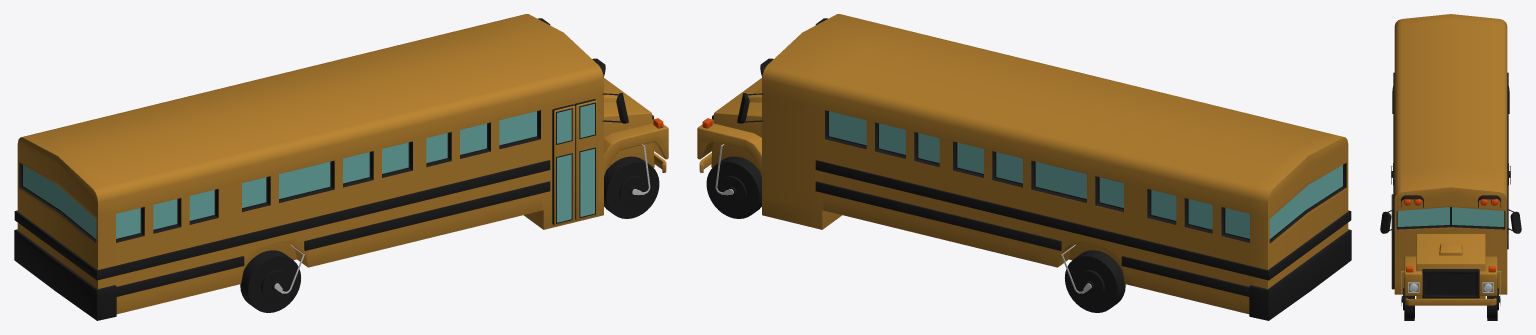
The model's file is Onibus_Escolar.fbx.
3 renders of one model, left to right at view 1: azimuth 30°, elevation 25°; view 2: azimuth 150°, elevation 25°; view 3: azimuth 270°, elevation 25°, orthographic. The views are drawn at different scales.
Parts seen in each view (by area): view 1: Onibus_Corpo, Onibus_Roda, Onibus_Porta, Onibus_Motor; view 2: Onibus_Corpo, Onibus_Roda, Onibus_Motor; view 3: Onibus_Corpo, Onibus_Motor, Onibus_Grade_frente, Onibus_Roda, Onibus_Porta, Onibus_Farol.
Boxes of the visible parts, x1=… form: Onibus_Corpo: x1=14, y1=14, x2=666, y2=320; Onibus_Roda: x1=240, y1=144, x2=659, y2=312; Onibus_Porta: x1=552, y1=99, x2=597, y2=225; Onibus_Motor: x1=604, y1=78, x2=668, y2=176; Onibus_Corpo: x1=699, y1=14, x2=1351, y2=320; Onibus_Roda: x1=706, y1=144, x2=1125, y2=312; Onibus_Motor: x1=697, y1=78, x2=761, y2=176; Onibus_Corpo: x1=1380, y1=14, x2=1521, y2=305; Onibus_Motor: x1=1404, y1=234, x2=1497, y2=298; Onibus_Grade_frente: x1=1422, y1=269, x2=1479, y2=298; Onibus_Roda: x1=1391, y1=163, x2=1510, y2=320; Onibus_Porta: x1=1391, y1=194, x2=1394, y2=289; Onibus_Farol: x1=1408, y1=282, x2=1493, y2=293.
Size of the model in its own units: 2226 by 621 by 665.
